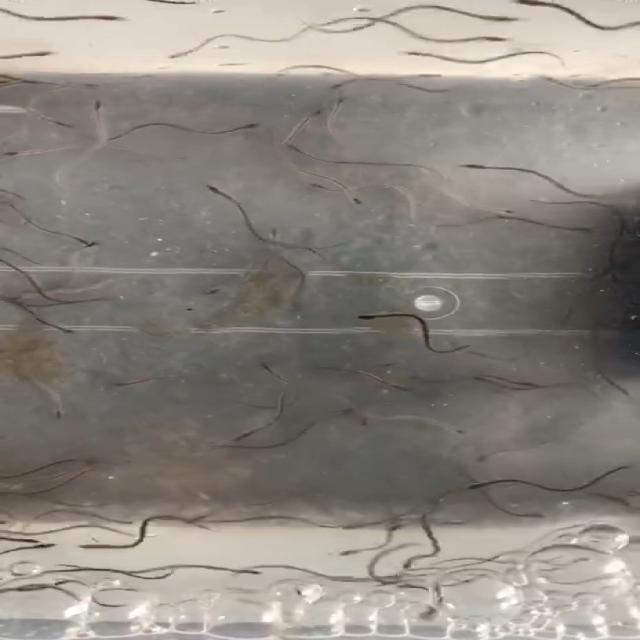active_glass_eel: (47, 108, 92, 134), (284, 102, 325, 130), (0, 45, 65, 62), (221, 423, 266, 447), (463, 7, 522, 25), (80, 92, 120, 118), (468, 200, 520, 220), (105, 366, 157, 386), (323, 90, 355, 122), (156, 43, 196, 68), (42, 398, 78, 424), (0, 541, 61, 556), (243, 353, 277, 379), (338, 188, 378, 210), (474, 446, 518, 466), (348, 405, 384, 429), (39, 317, 82, 337), (65, 229, 109, 248), (410, 603, 444, 627), (184, 291, 219, 313), (278, 137, 318, 156), (386, 47, 444, 60), (380, 371, 410, 396), (68, 539, 125, 552), (354, 305, 389, 326), (76, 11, 128, 25), (395, 69, 455, 81), (231, 114, 271, 132), (440, 36, 518, 45), (436, 420, 470, 440), (446, 163, 500, 175), (0, 532, 46, 546), (256, 222, 286, 243), (462, 478, 507, 492), (508, 0, 559, 12), (334, 544, 372, 560), (2, 286, 40, 302), (554, 223, 600, 236), (0, 146, 36, 162), (58, 80, 99, 94), (523, 78, 574, 89), (186, 508, 217, 526), (332, 78, 364, 95), (398, 554, 428, 571), (309, 176, 334, 196), (226, 566, 267, 576), (205, 178, 229, 195)
